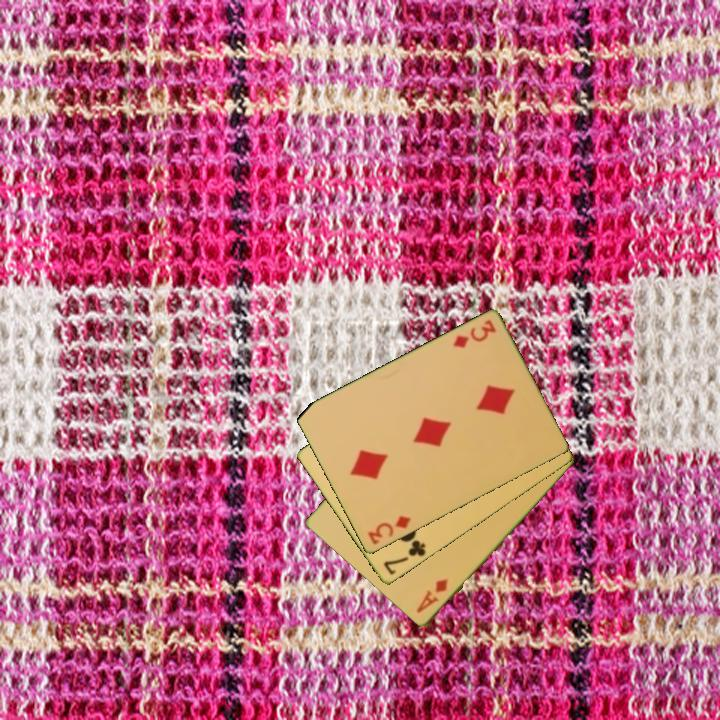3d: (364, 512, 414, 548), (449, 316, 499, 351)
7c: (380, 537, 429, 578)
Ad: (413, 575, 451, 616)
